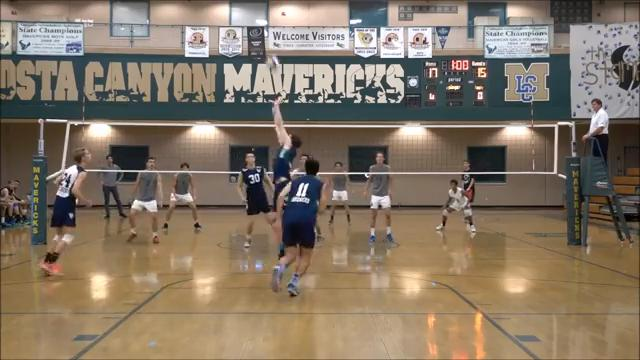Player: (271, 159, 325, 295), (40, 148, 90, 274), (237, 153, 273, 248), (128, 157, 162, 243), (364, 152, 393, 243), (163, 162, 201, 231), (436, 179, 475, 232), (329, 162, 350, 224), (462, 160, 475, 203), (291, 153, 311, 178), (292, 154, 312, 178)
Set: (266, 89, 299, 239)
ball: (265, 55, 278, 71)
